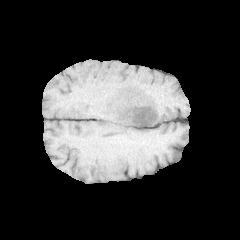glioma: (101, 84, 174, 137)
